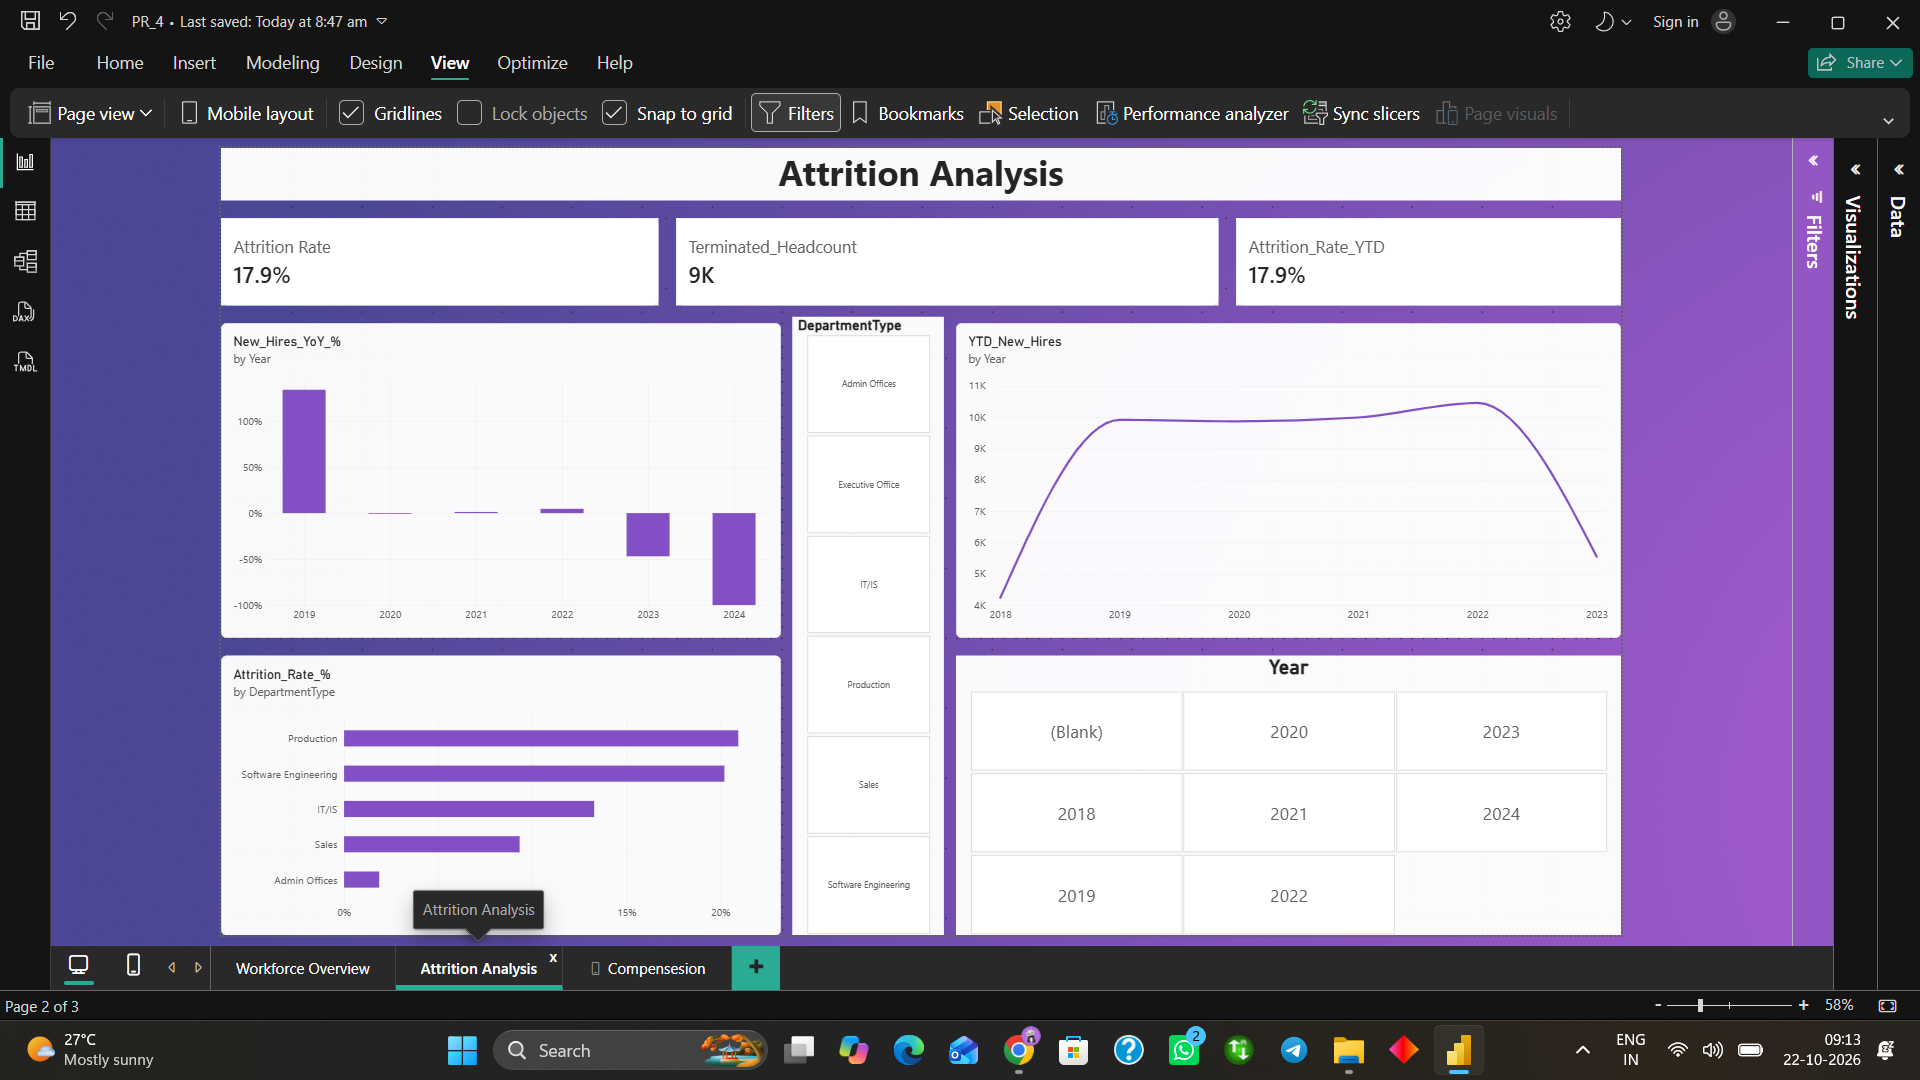

The page's visual inventory and layout, read from the dashboard file:
{"tool":"powerbi","page":{"name":"Attrition Analysis","canvas":[1920,1080],"ordinal":1},"visuals":[{"type":"slicer","title":"Year","fields":{"Values":["Dim_Date.Year"]},"box":[1008,696,912,384],"z":0},{"type":"slicer","fields":{"Values":["Employee_Master.DepartmentType"]},"box":[784,232,208,848],"z":1000},{"type":"clusteredColumnChart","fields":{"Category":["Dim_Date.Date.Variation.Date Hierarchy.Year","Dim_Date.Date.Variation.Date Hierarchy.Quarter","Dim_Date.Date.Variation.Date Hierarchy.Month","Dim_Date.Date.Variation.Date Hierarchy.Day"],"Y":["_Measures.New_Hires_YoY_%"]},"box":[0,240,768,432],"z":2000},{"type":"lineChart","fields":{"Category":["Dim_Date.Month-Year.Variation.Date Hierarchy.Year","Dim_Date.Month-Year.Variation.Date Hierarchy.Quarter","Dim_Date.Month-Year.Variation.Date Hierarchy.Month","Dim_Date.Month-Year.Variation.Date Hierarchy.Day"],"Y":["_Measures.YTD_New_Hires"]},"box":[1008,240,912,432],"z":3000},{"type":"barChart","fields":{"Category":["Employee_Master.DepartmentType"],"Y":["_Measures.Attrition_Rate_%"]},"box":[0,696,768,384],"z":4000},{"type":"cardVisual","fields":{"Data":["_Measures.Attrition_Rate_%"]},"box":[0,96,600,120],"z":5000},{"type":"cardVisual","fields":{"Data":["_Measures.Terminated_Headcount"]},"box":[624,96,744,120],"z":6000},{"type":"cardVisual","fields":{"Data":["_Measures.Attrition_Rate_YTD"]},"box":[1392,96,528,120],"z":7000},{"type":"textbox","box":[0,0,1920,72],"z":8000}]}

Visuals, with their boxes on the page's 1920x1080 design canvas (x1, y1, x2, y2). These are canvas units, not pixel positions in the 1920x1080 screenshot, which may show the page scaled, cropped or inside an application window:
"Year" slicer: (left=1008, top=696, right=1920, bottom=1080)
slicer - Employee_Master.DepartmentType: (left=784, top=232, right=992, bottom=1080)
clusteredColumnChart - Dim_Date.Date.Variation.Date Hierarchy.Year x Dim_Date.Date.Variation.Date Hierarchy.Quarter: (left=0, top=240, right=768, bottom=672)
lineChart - Dim_Date.Month-Year.Variation.Date Hierarchy.Year x Dim_Date.Month-Year.Variation.Date Hierarchy.Quarter: (left=1008, top=240, right=1920, bottom=672)
barChart - Employee_Master.DepartmentType x _Measures.Attrition_Rate_%: (left=0, top=696, right=768, bottom=1080)
cardVisual - _Measures.Attrition_Rate_%: (left=0, top=96, right=600, bottom=216)
cardVisual - _Measures.Terminated_Headcount: (left=624, top=96, right=1368, bottom=216)
cardVisual - _Measures.Attrition_Rate_YTD: (left=1392, top=96, right=1920, bottom=216)
textbox: (left=0, top=0, right=1920, bottom=72)
